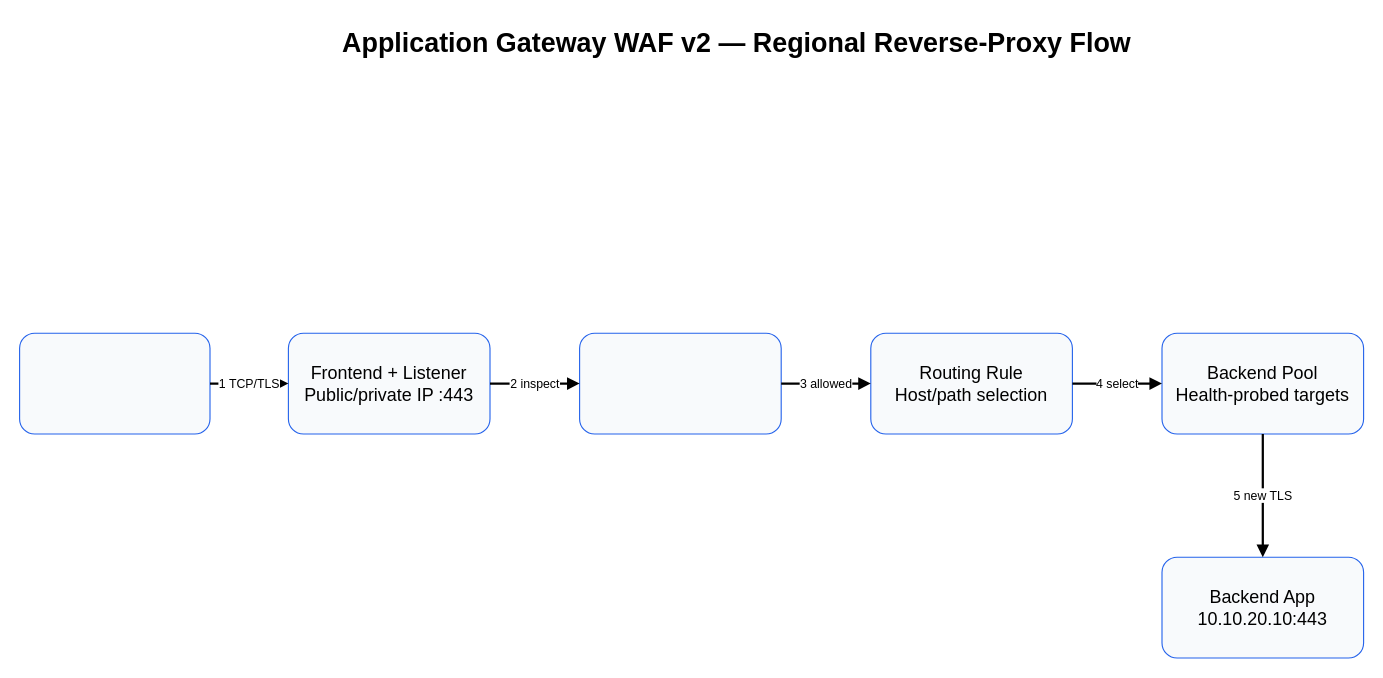
Some shapes in this 1383 by 678 pixel diagram are drawn without their labels. Here are the shapes that lost their labels. From the top down, the centre of each, then its label:
At point (114, 383): "Client Internet or private".
At point (679, 383): "WAF Policy Detection/Prevention".
